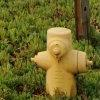a fire hydrant: (44, 27, 80, 96)
